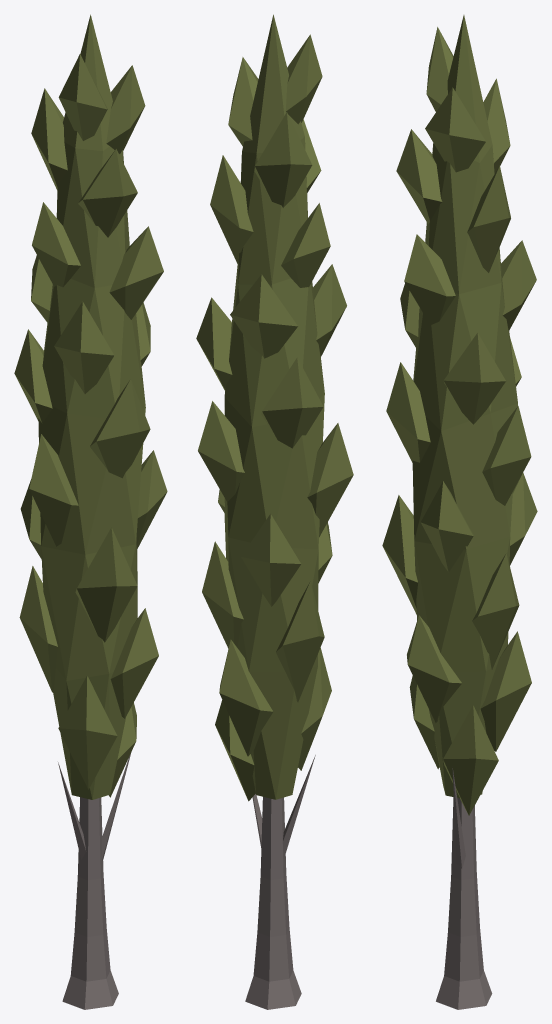
File: poplar-row-run-cdc69f.glb
The picture shows the model from 3 angles, left to right: view 1: azimuth 30°, elevation 25°; view 2: azimuth 150°, elevation 25°; view 3: azimuth 270°, elevation 25°; orthographic projection.
Parts seen in each view (by area): view 1: crown-leaves, trunk; view 2: crown-leaves, trunk; view 3: crown-leaves, trunk.
Boxes of the visible parts, x1,y1,x2,y2 form: crown-leaves: (14,14,167,799); trunk: (58,753,130,1009); crown-leaves: (196,14,353,801); trunk: (245,755,315,1009); crown-leaves: (382,15,537,815); trunk: (436,768,492,1009).
Bounding box in the file's own units: 2.38 × 16 × 2.29.
